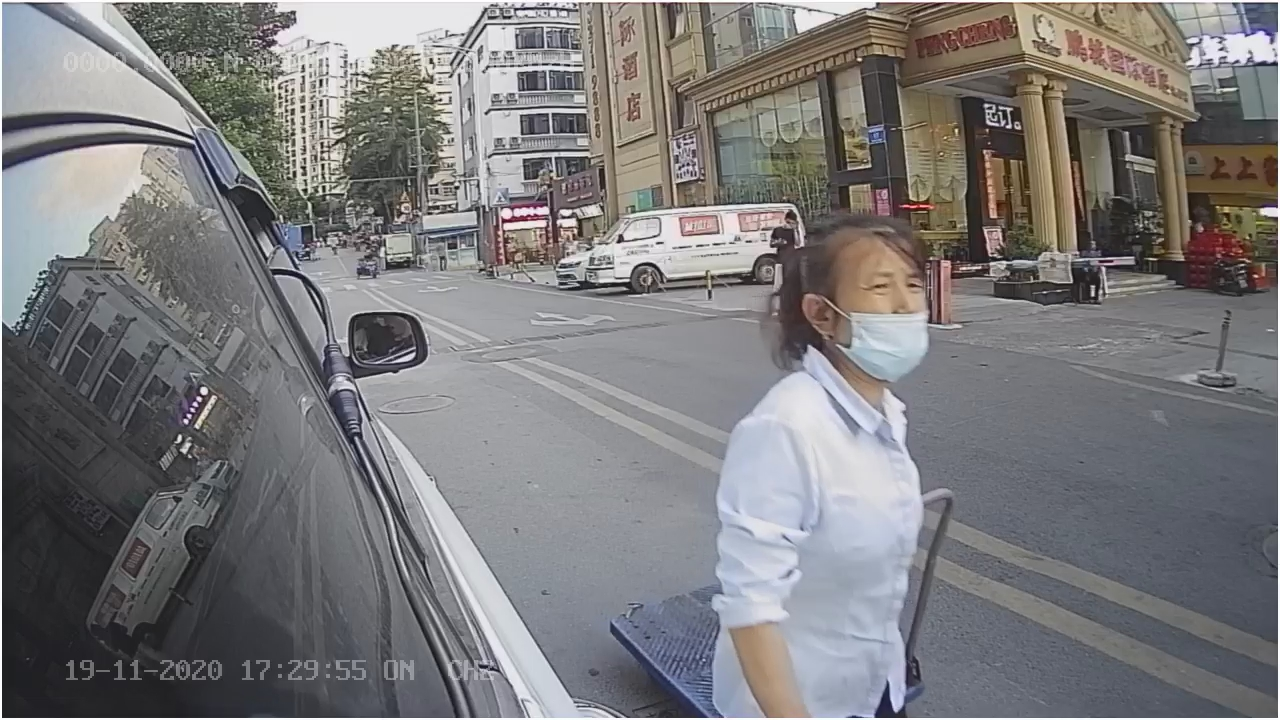person: (709, 231, 934, 706)
